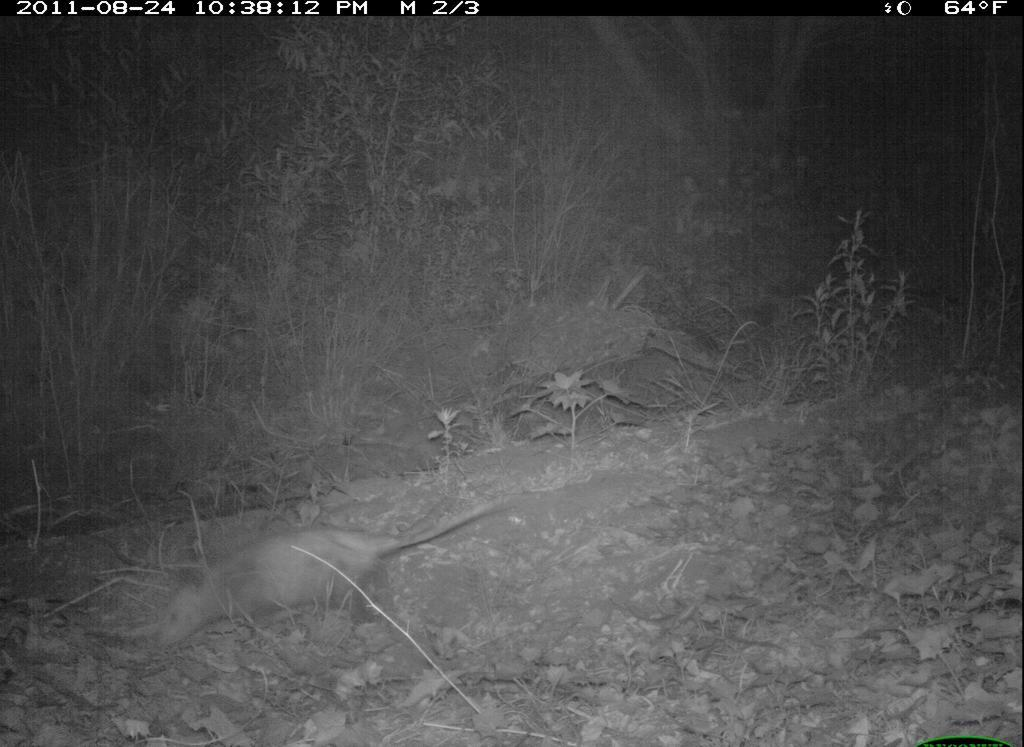opossum: (157, 487, 518, 674)
